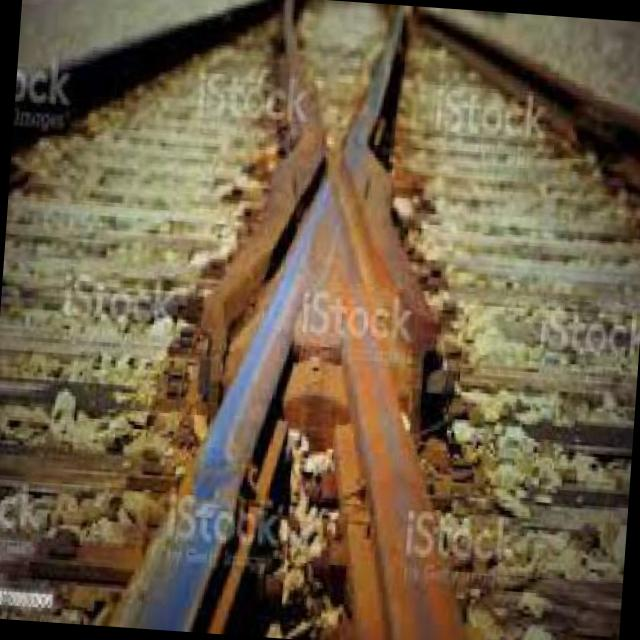defective: (58, 48, 557, 640)
